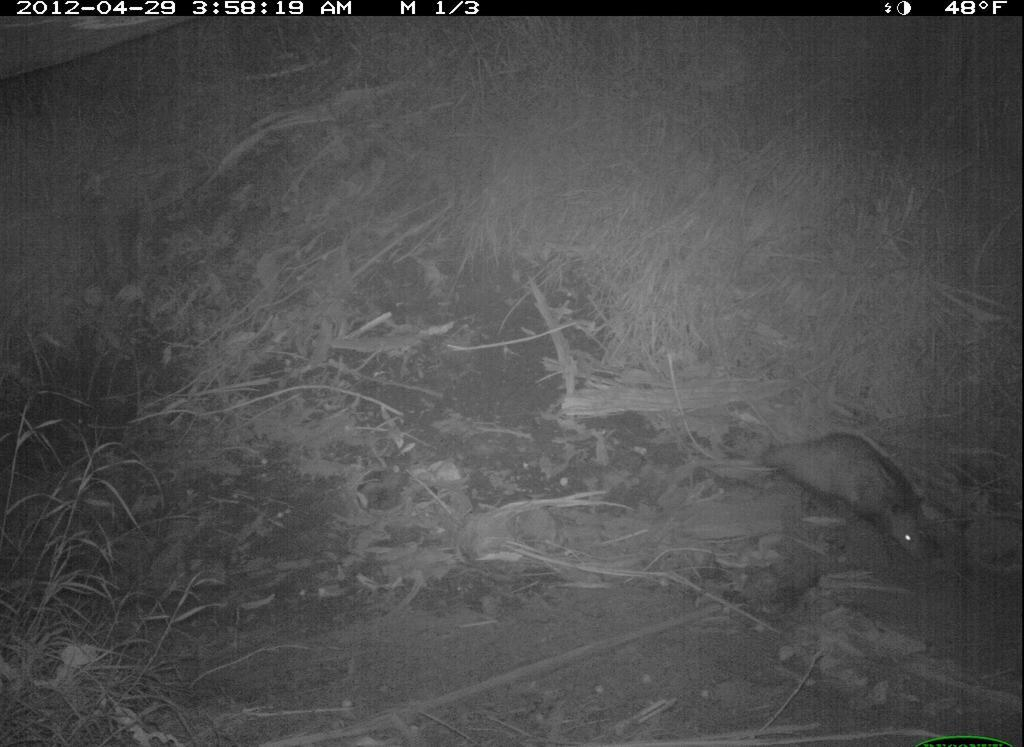opossum: (717, 409, 940, 570)
